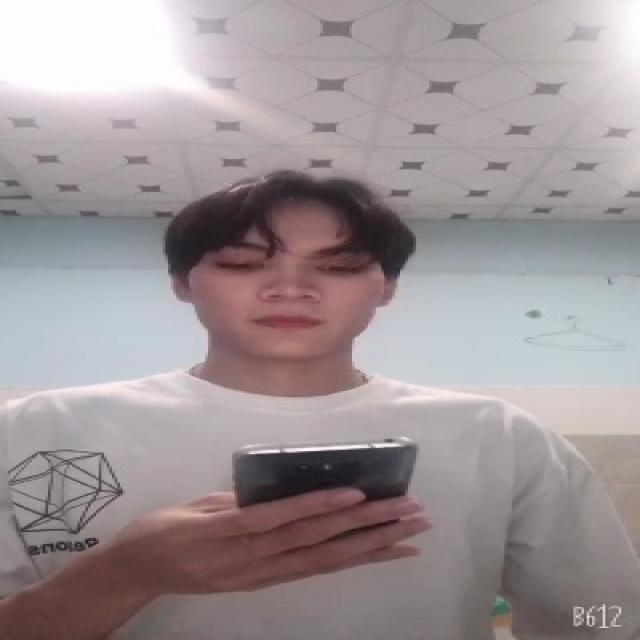Phone: (234, 431, 421, 519)
